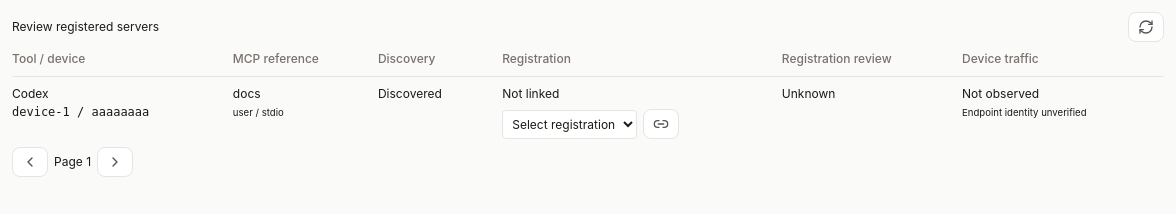
Test case: links explicitly with the current revision and selected workspace
Select "Docs registry" in the dropdown: (570, 124) x1=502 y1=110 x2=637 y2=138
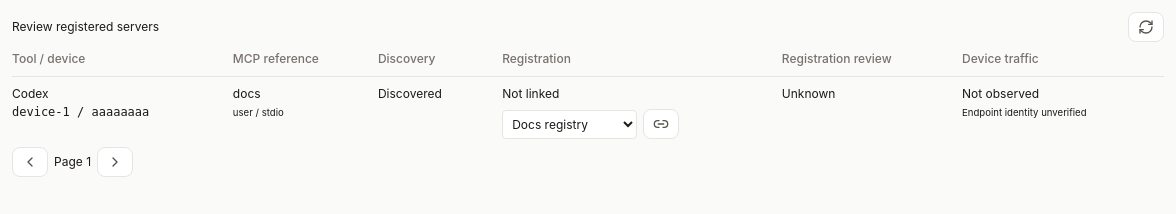
Click the button named "Link docs": (661, 124) x1=643 y1=109 x2=679 y2=139
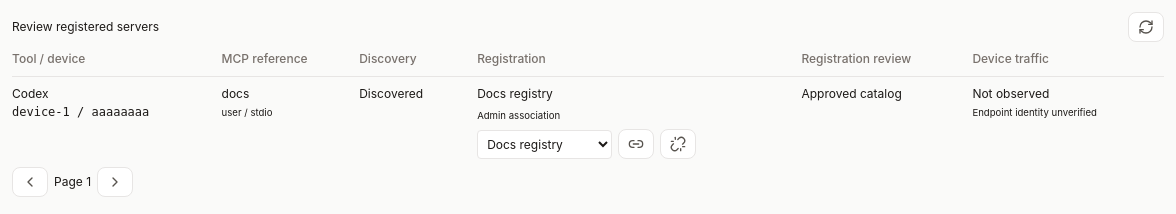
Check: the text "Not observed" is shown, box x1=972 y1=86 x2=1049 y2=101
Check: the text "Approved catalog" is shown, box x1=801 y1=76 x2=972 y2=167
